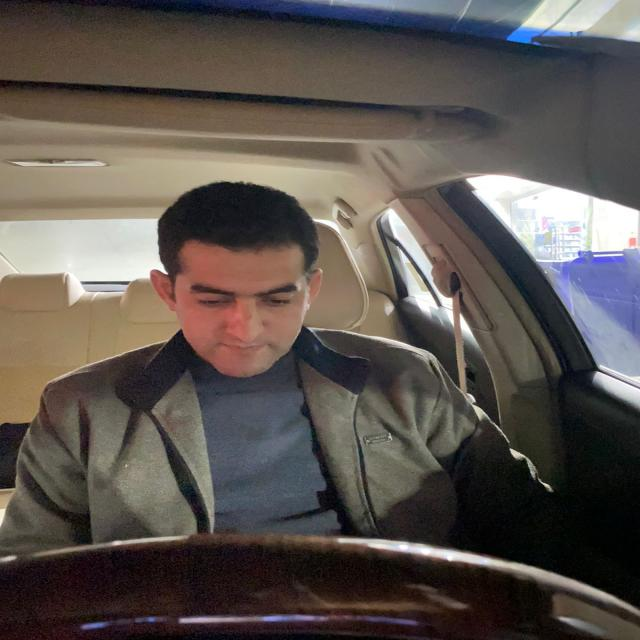person: (144, 182, 331, 386)
